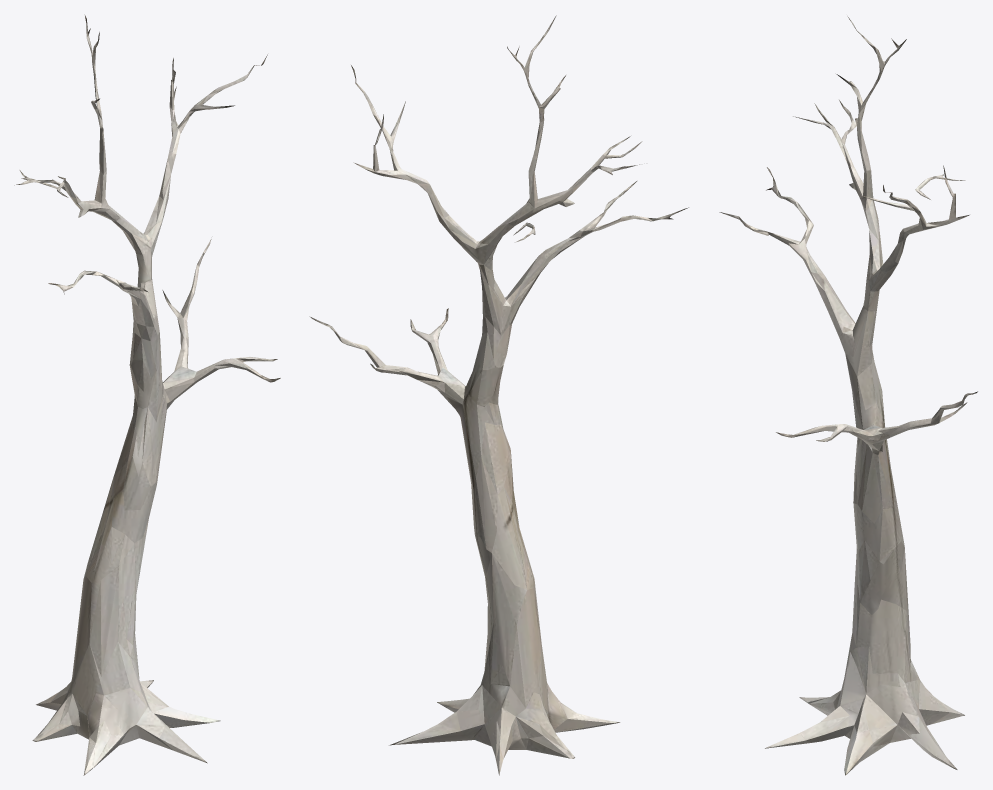
The model's file is snag_1.glb.
3 renders of one model, left to right at view 1: azimuth 30°, elevation 25°; view 2: azimuth 150°, elevation 25°; view 3: azimuth 270°, elevation 25°, orthographic. The views are drawn at different scales.
Bounding box in the file's own units: 0.7729 × 1.9 × 0.6356.
Materials: 1 (1 with a texture image).
